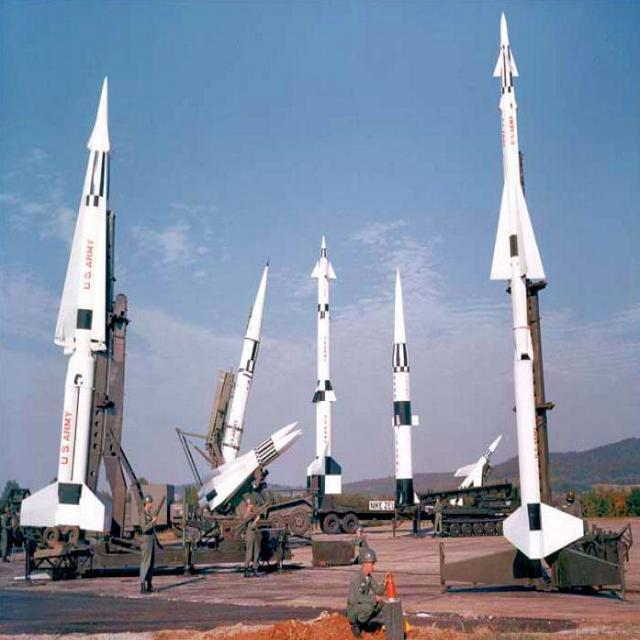Missile: (487, 2, 587, 553), (19, 70, 121, 545), (378, 252, 435, 507), (309, 225, 349, 518)
